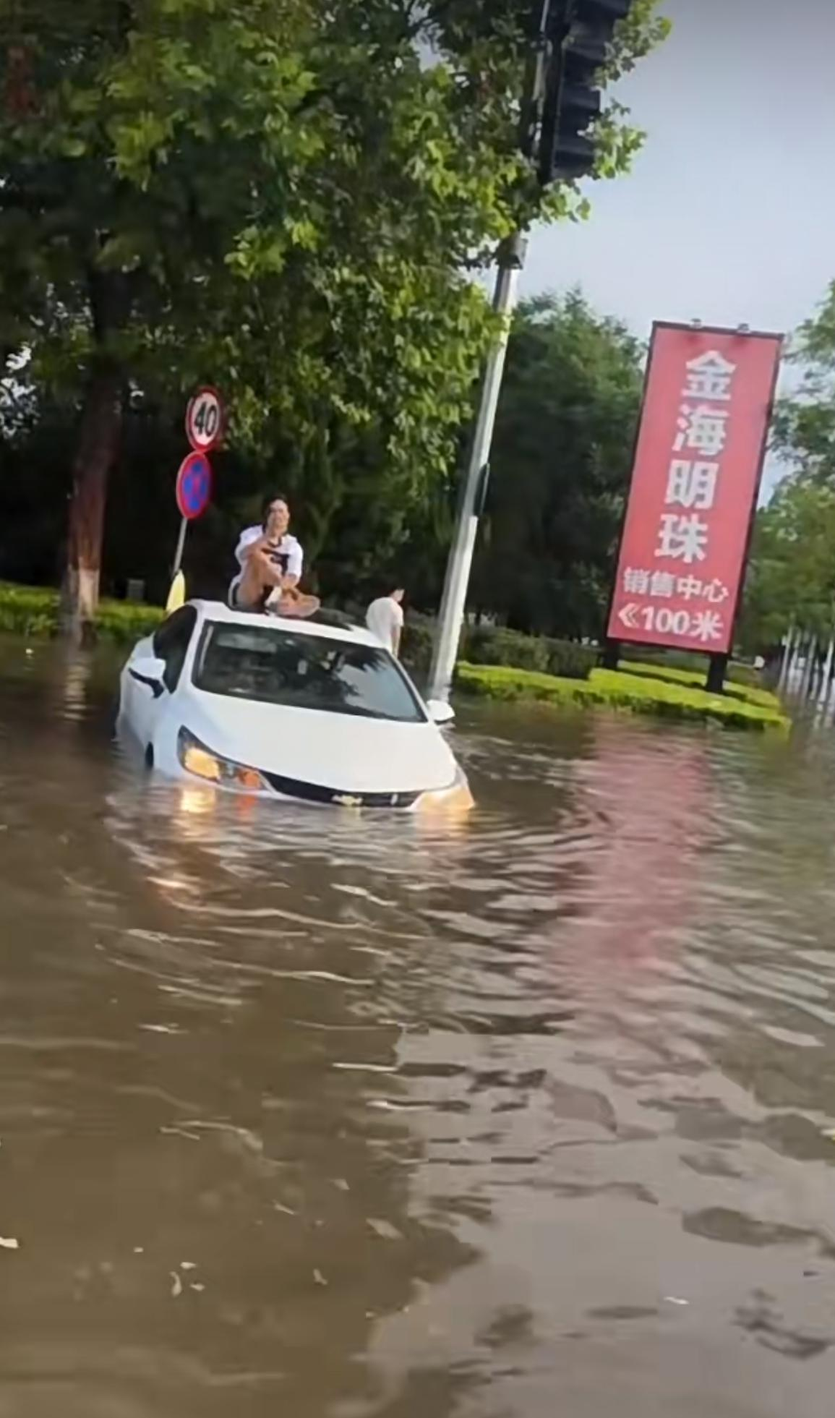water: (4, 631, 834, 1417)
